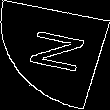N_E: (20, 29, 90, 81)
